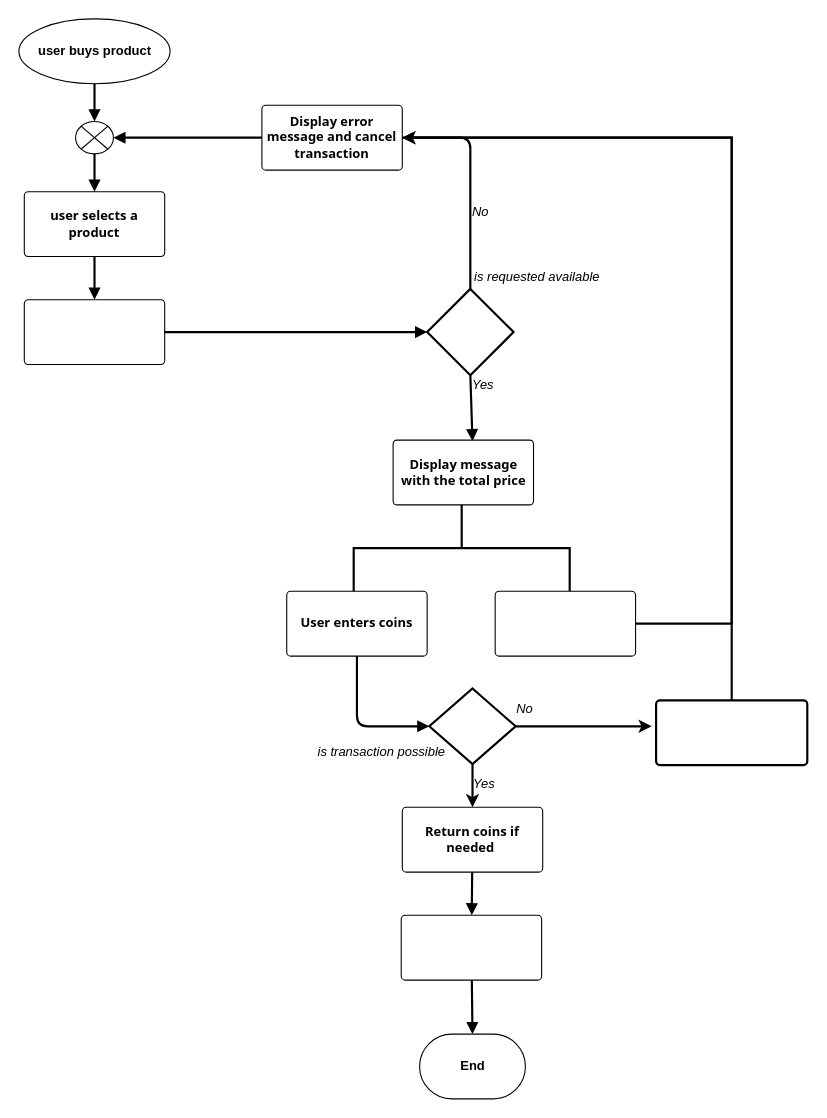
The diagram is 827 pixels wide and 1118 high, and some of its shapes have lost their labels. Here are the shapes that lost their labels. From the top down, the centre of each, then its label:
At pixel 94 331: "user enters quantity".
At pixel 565 623: "User cancels transaction/ timeout expires".
At pixel 731 732: "Return all coins to the user".
At pixel 471 947: "Serve the requested product".
